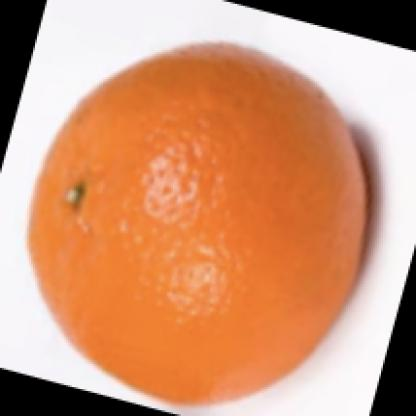fresh: (28, 42, 371, 407)
